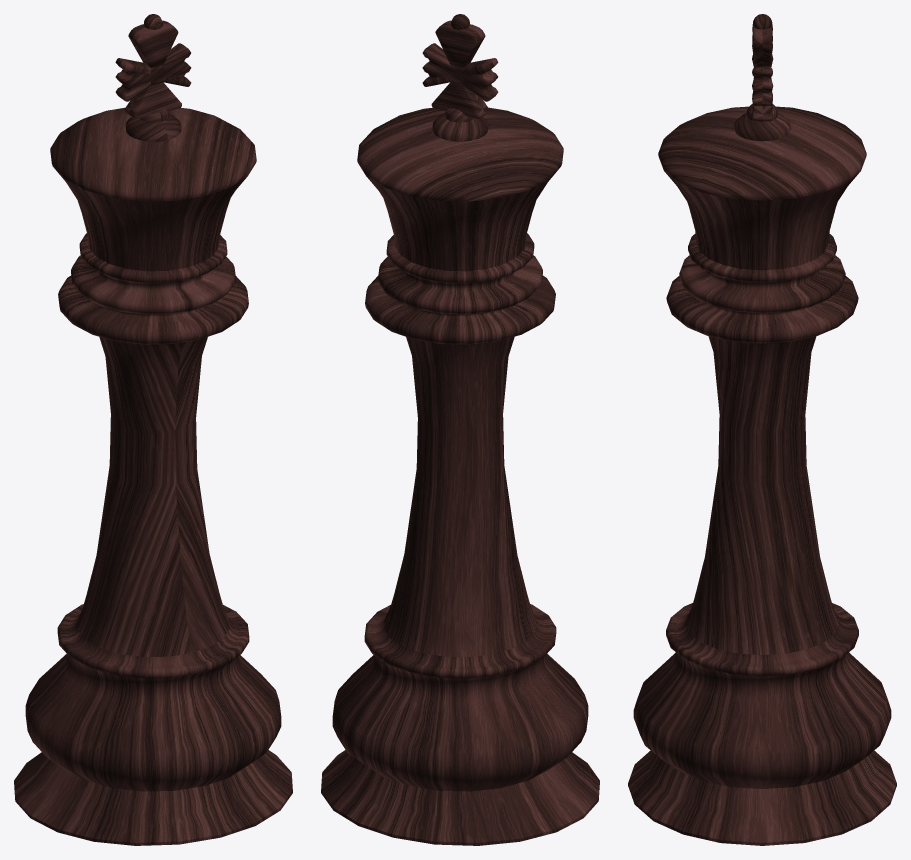
File: Black_King.dae
The picture shows the model from 3 angles, left to right: view 1: azimuth 30°, elevation 25°; view 2: azimuth 150°, elevation 25°; view 3: azimuth 270°, elevation 25°; orthographic projection.
Parts seen in each view (by area): view 1: King; view 2: King; view 3: King.
Boxes of the visible parts, <box> form: King: <box>14,14,292,845</box>; King: <box>321,14,599,845</box>; King: <box>628,14,896,845</box>.
Bounding box in the file's own units: 2.02 × 6.08 × 1.92.
Materials: 1 (1 with a texture image).
